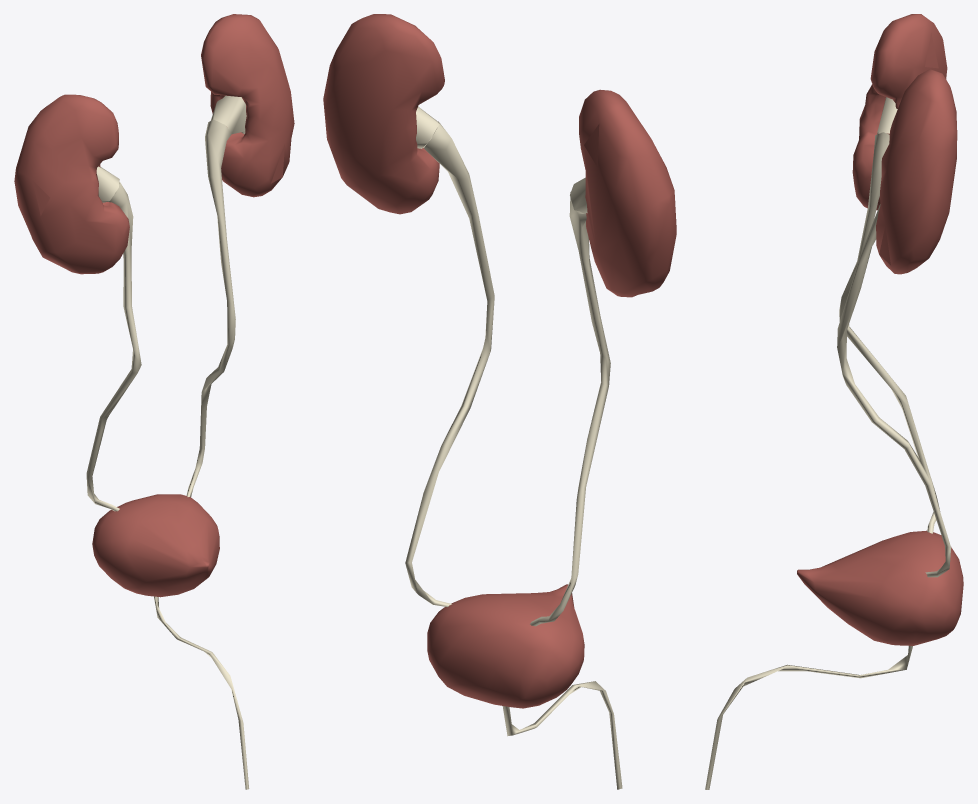
File: adult_male.urinary.LOD4.glb
3 views of the same model, side by side, from view 1: azimuth 30°, elevation 25°; view 2: azimuth 150°, elevation 25°; view 3: azimuth 270°, elevation 25° (orthographic). The views are drawn at different scales.
Parts seen in each view (by area): view 1: ADULT.MALE.URINARY.KIDNEY.R, ADULT.MALE.URINARY.KIDNEY.L, ADULT.MALE.URINARY.URINARY_BLADDER, ADULT.MALE.URINARY.URETER.L, ADULT.MALE.URINARY.URETER.R, ADULT.MALE.URINARY.URETHRA, ADULT.MALE.URINARY.RENAL_PELVIS.L, ADULT.MALE.URINARY.RENAL_PELVIS.R; view 2: ADULT.MALE.URINARY.KIDNEY.L, ADULT.MALE.URINARY.KIDNEY.R, ADULT.MALE.URINARY.URINARY_BLADDER, ADULT.MALE.URINARY.URETER.L, ADULT.MALE.URINARY.URETER.R, ADULT.MALE.URINARY.URETHRA, ADULT.MALE.URINARY.RENAL_PELVIS.L; view 3: ADULT.MALE.URINARY.URINARY_BLADDER, ADULT.MALE.URINARY.KIDNEY.L, ADULT.MALE.URINARY.KIDNEY.R, ADULT.MALE.URINARY.URETER.L, ADULT.MALE.URINARY.URETER.R, ADULT.MALE.URINARY.URETHRA, ADULT.MALE.URINARY.RENAL_PELVIS.R.
Boxes of the visible parts, x1,y1,x2,y2 form: ADULT.MALE.URINARY.KIDNEY.R: (14, 94, 129, 274); ADULT.MALE.URINARY.KIDNEY.L: (201, 14, 294, 197); ADULT.MALE.URINARY.URINARY_BLADDER: (92, 494, 219, 597); ADULT.MALE.URINARY.URETER.L: (186, 119, 235, 496); ADULT.MALE.URINARY.URETER.R: (86, 182, 141, 511); ADULT.MALE.URINARY.URETHRA: (154, 596, 249, 789); ADULT.MALE.URINARY.RENAL_PELVIS.L: (210, 95, 246, 134); ADULT.MALE.URINARY.RENAL_PELVIS.R: (96, 166, 119, 202); ADULT.MALE.URINARY.KIDNEY.L: (323, 14, 444, 214); ADULT.MALE.URINARY.KIDNEY.R: (579, 89, 676, 297); ADULT.MALE.URINARY.URINARY_BLADDER: (427, 584, 584, 708); ADULT.MALE.URINARY.URETER.L: (405, 121, 494, 606); ADULT.MALE.URINARY.URETER.R: (530, 192, 610, 626); ADULT.MALE.URINARY.URETHRA: (502, 681, 622, 789); ADULT.MALE.URINARY.RENAL_PELVIS.L: (416, 106, 439, 148); ADULT.MALE.URINARY.URINARY_BLADDER: (797, 530, 963, 645); ADULT.MALE.URINARY.KIDNEY.L: (876, 69, 957, 274); ADULT.MALE.URINARY.KIDNEY.R: (852, 14, 947, 210); ADULT.MALE.URINARY.URETER.L: (837, 204, 951, 577); ADULT.MALE.URINARY.URETER.R: (839, 132, 940, 533); ADULT.MALE.URINARY.URETHRA: (705, 646, 912, 789); ADULT.MALE.URINARY.RENAL_PELVIS.R: (877, 97, 897, 134).
Size of the model in its own units: 0.178 by 0.4203 by 0.129.
